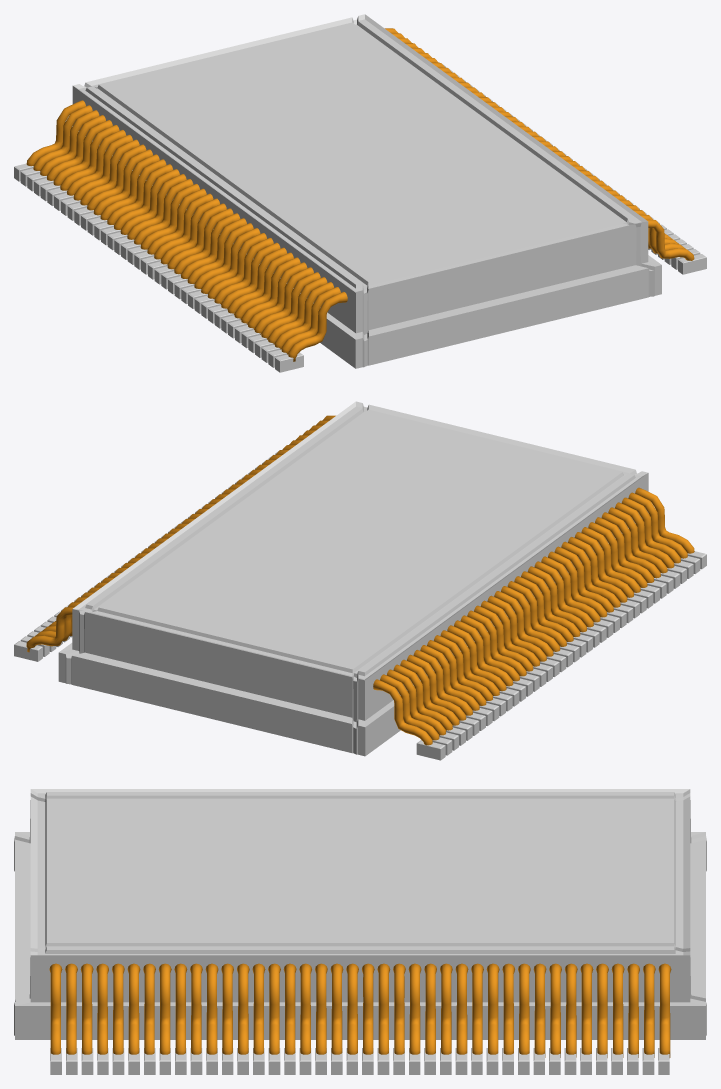
The model's file is board.fbx.
The picture shows the model from 3 angles, top to bottom: view 1: azimuth 30°, elevation 25°; view 2: azimuth 150°, elevation 25°; view 3: azimuth 270°, elevation 25°; orthographic projection. The views are drawn at different scales.
Parts seen in each view (by area): view 1: Cube.023; view 2: Cube.023; view 3: Cube.023.
Boxes of the visible parts, box(x1,y1,x2,y2) form: Cube.023: box(14, 14, 706, 372); Cube.023: box(14, 401, 706, 760); Cube.023: box(14, 789, 706, 1074).
Size of the model in its own units: 852 by 136 by 1030.
